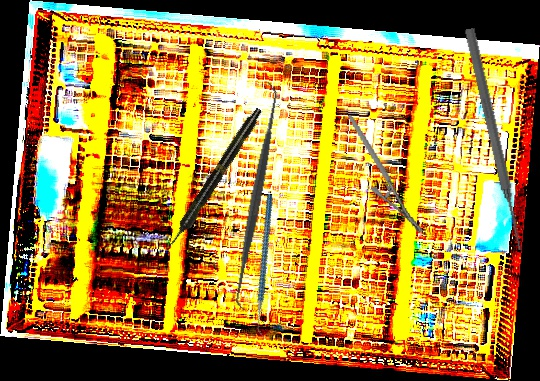Chopper: (213, 193, 321, 340)
Handpiece: (164, 105, 266, 250)
Needle Holder: (348, 105, 424, 243)
Pusher: (461, 27, 528, 252)
Spatula Surgical: (221, 79, 291, 312)
